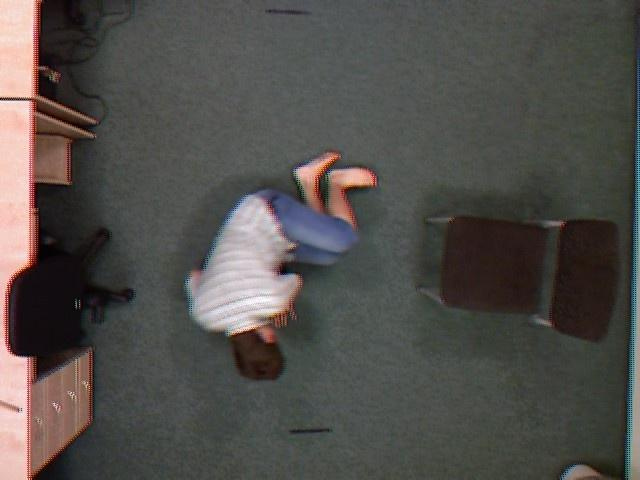fall: (177, 149, 380, 389)
